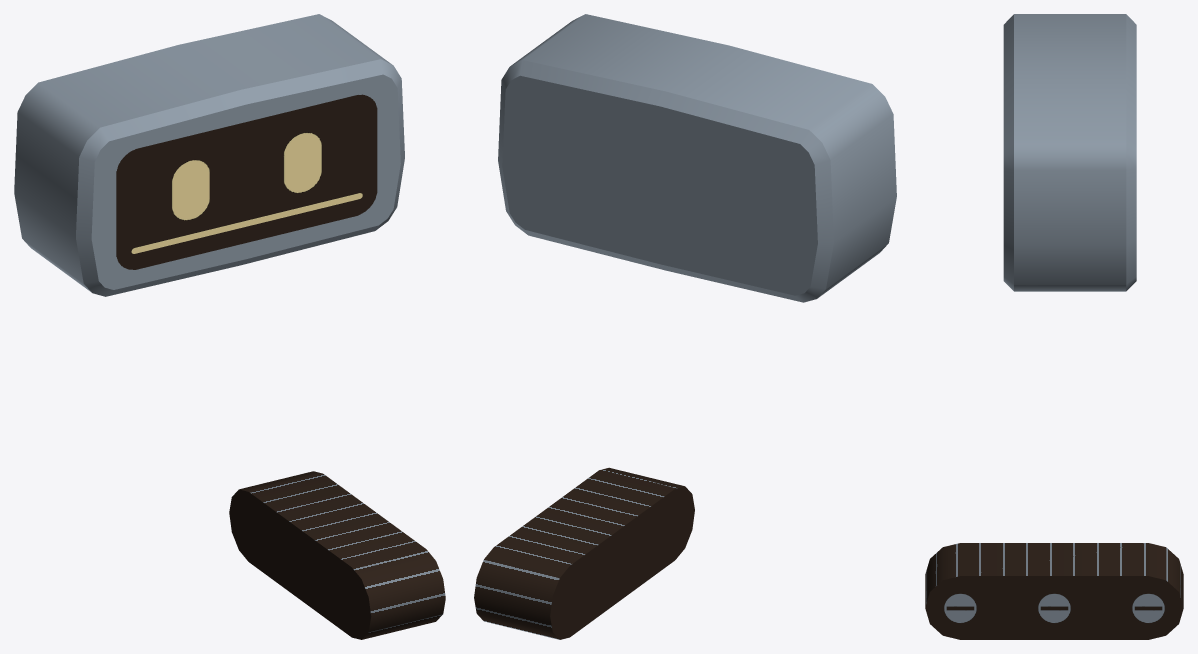
Rendered from ats_test.glb.
The picture shows the model from 3 angles, left to right: view 1: azimuth 30°, elevation 25°; view 2: azimuth 150°, elevation 25°; view 3: azimuth 270°, elevation 25°; orthographic projection. The views are drawn at different scales.
Visible parts, largest first — view 1: body, screen; view 2: body; view 3: body.
Part boxes in pixels (bbox=[...]): body: bbox=[14, 14, 445, 639]; screen: bbox=[116, 94, 377, 269]; body: bbox=[474, 14, 896, 639]; body: bbox=[925, 14, 1183, 639].
Bounding box in the file's own units: 0.6612 × 1.05 × 0.494.
Materials: 6 (4 with a texture image).
